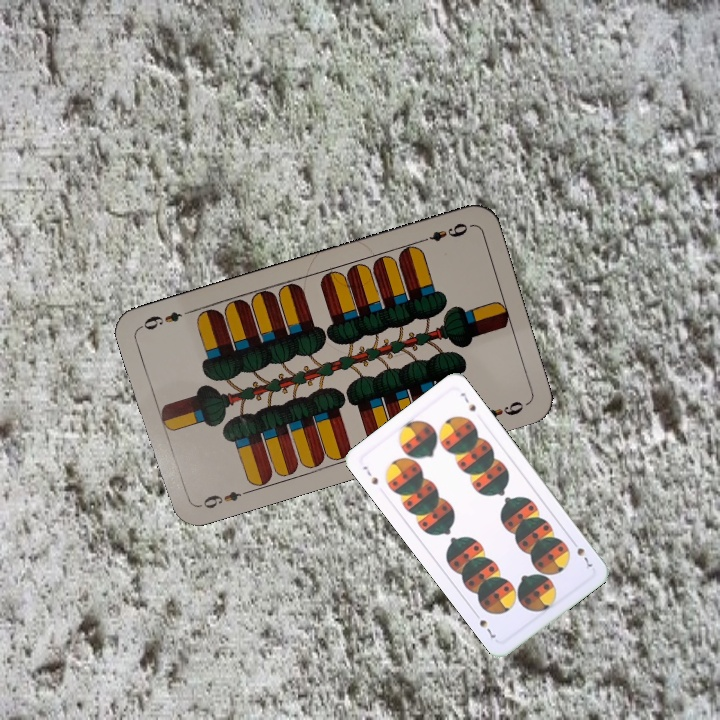E9: (415, 219, 470, 246), (193, 486, 251, 511)
S7: (568, 536, 595, 570), (358, 462, 381, 488)
